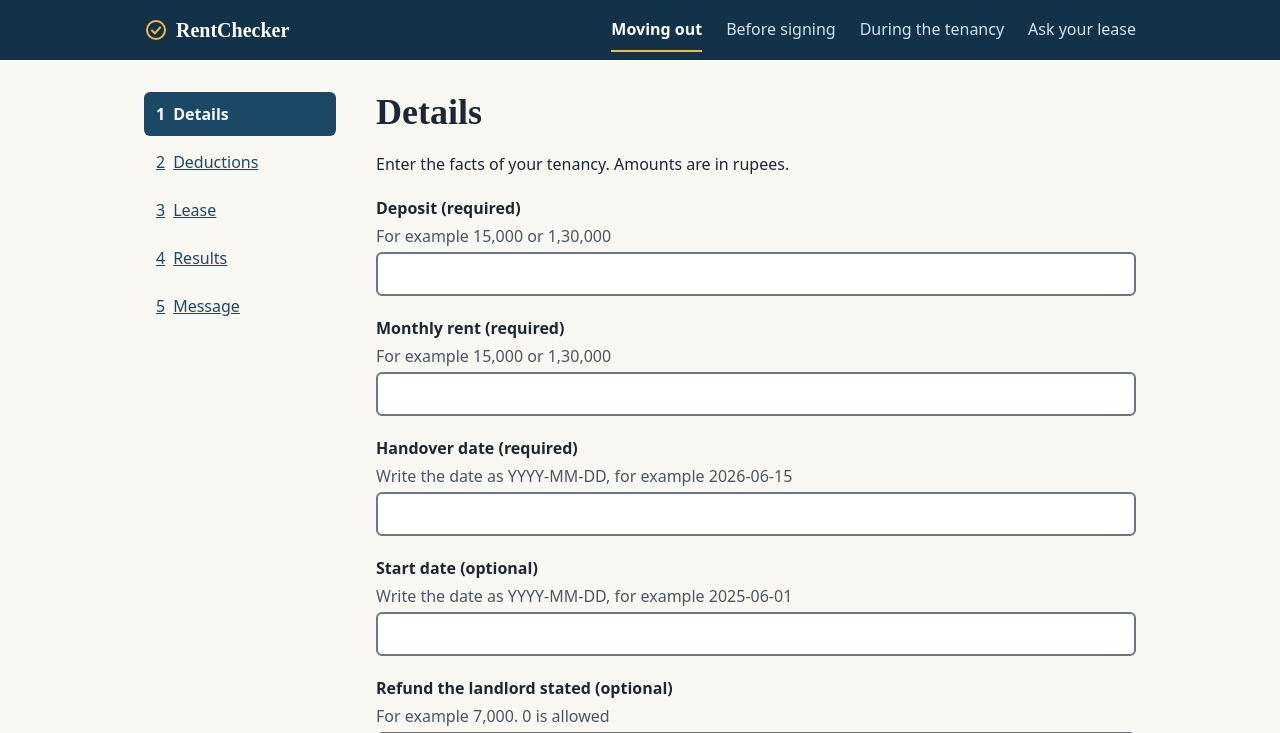
Test: Details step › F1-R8 an error does not appear while typing, only after leaving the field
The width and height of the screenshot is (1280, 733).
In the field labelled "Deposit (required)": (756, 274) [376,252,1136,296], type "ab"
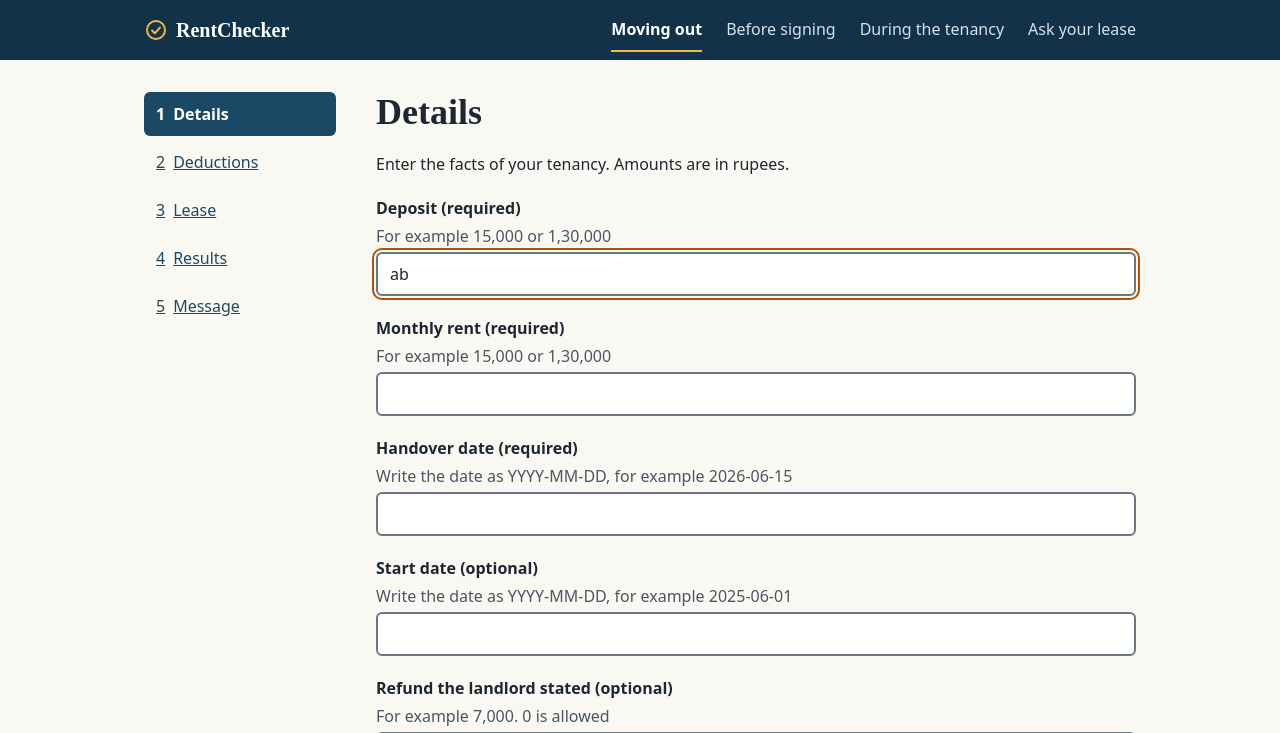
Expected: the text "Enter an amount in rupees" is not shown
Press Tab
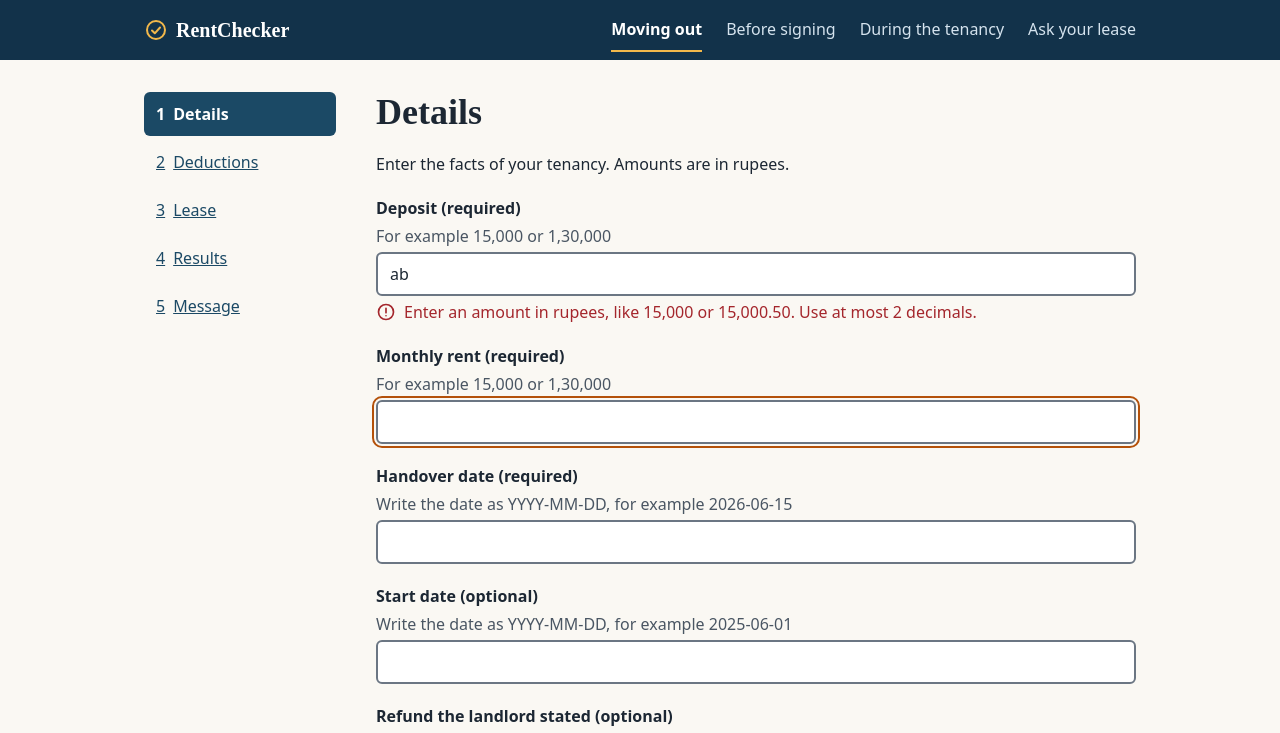
Result: the text "Enter an amount in rupees" is shown at [404,301,977,323]
